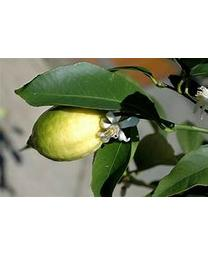lemon: (29, 104, 105, 164)
